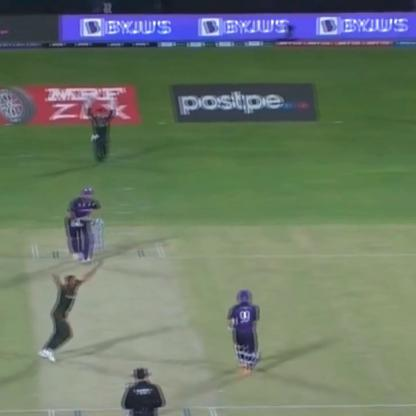pitch: (18, 244, 222, 414)
